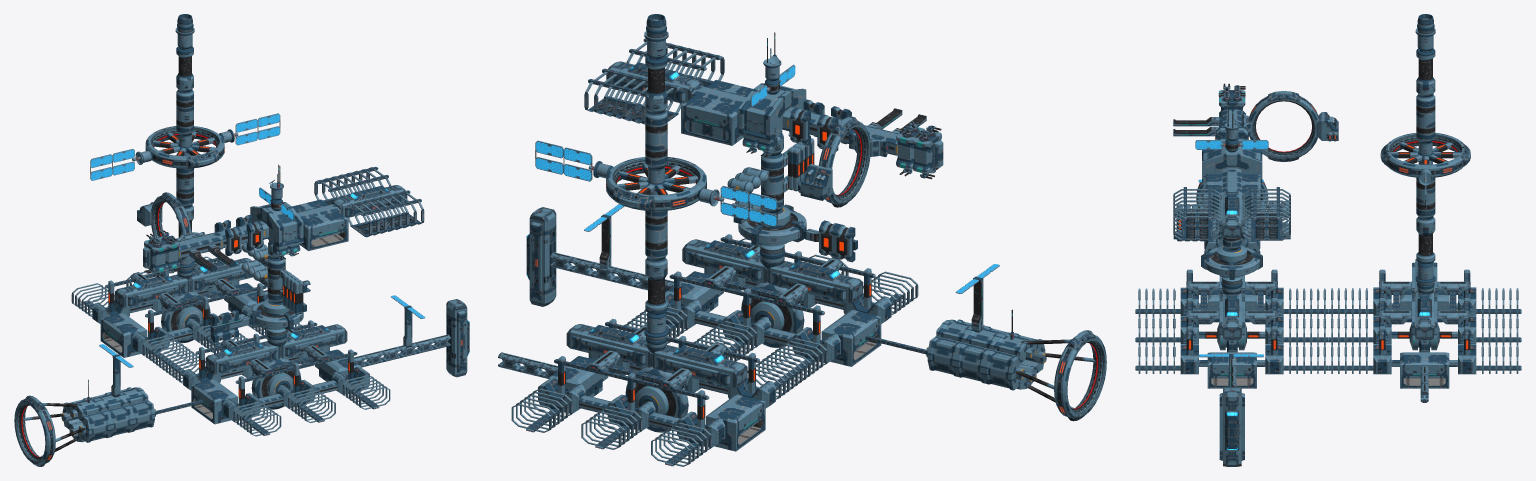
Rendered from station-a02e2a05.glb.
The picture shows the model from 3 angles, left to right: view 1: azimuth 30°, elevation 25°; view 2: azimuth 150°, elevation 25°; view 3: azimuth 270°, elevation 25°; orthographic projection. The views are drawn at different scales.
Visible parts, largest first — view 1: MilitaryFacilities2(Main) (3), WarpGate_Part01(Parts).001, SpaceShipyard_Part01(Parts), WarpGate_Part01(Parts), MilitaryFacilities1(Main), SpaceShipyard_Part01(Parts).002, SpaceShipyard_Part01(Parts) (1), SpaceShipsHangar(Main).004, SpaceShipyard_Part01(Parts).001, SpaceShipsHangar(Main) (1), SpaceShipsHangar(Main).002, SpaceShipyard_Part01(Parts).004 (+17 smaller); view 2: MilitaryFacilities2(Main) (2), WarpGate_Part01(Parts).001, SpaceShipyard_Part01(Parts), MilitaryFacilities1(Main), SpaceShipyard_Part01(Parts) (1), SpaceShipyard_Part01(Parts).002, WarpGate_Part01(Parts), SpaceShipyard_Part01(Parts).003, SpaceShipyard_Part01(Parts).001, SpaceShipsHangar(Main) (1), WarpGate_Part01(Parts).002, SpaceShipsHangar(Main).002 (+28 smaller); view 3: WarpGate_Part01(Parts).001, SpaceShipyard_Part01(Parts), WarpGate_Part01(Parts).002, SpaceShipsHangar(Main), MilitaryFacilities1(Main), SpaceShipsHangar(Main).001, CorePart1(Main).002, SpaceShipyard_Part01(Parts).003, SpaceShipyard_Part01(Parts).001, SpaceShipyard_Part01(Parts).004, CorePart3(Main) (1), CorePart2(Main) (1) (+20 smaller).
Part boxes in pixels (box(x1,y1,x2,y2)): MilitaryFacilities2(Main) (3): box(79, 400, 155, 442); WarpGate_Part01(Parts).001: box(145, 126, 224, 168); SpaceShipyard_Part01(Parts): box(446, 299, 469, 377); WarpGate_Part01(Parts): box(14, 395, 55, 466); MilitaryFacilities1(Main): box(250, 202, 303, 248); SpaceShipyard_Part01(Parts).002: box(205, 341, 280, 374); SpaceShipyard_Part01(Parts) (1): box(115, 274, 189, 308); SpaceShipsHangar(Main).004: box(299, 211, 348, 250); SpaceShipyard_Part01(Parts).001: box(281, 324, 347, 358); SpaceShipsHangar(Main) (1): box(100, 313, 147, 357); SpaceShipsHangar(Main).002: box(191, 379, 237, 424); SpaceShipyard_Part01(Parts).004: box(331, 185, 407, 217); MilitaryFacilities2(Main) (2): box(926, 336, 1024, 390); WarpGate_Part01(Parts).001: box(606, 157, 706, 211); SpaceShipyard_Part01(Parts): box(526, 207, 556, 306); MilitaryFacilities1(Main): box(738, 83, 806, 142); SpaceShipyard_Part01(Parts) (1): box(651, 344, 747, 387); SpaceShipyard_Part01(Parts).002: box(767, 260, 863, 303); WarpGate_Part01(Parts): box(1054, 330, 1106, 421); SpaceShipyard_Part01(Parts).003: box(566, 324, 651, 367); SpaceShipyard_Part01(Parts).001: box(682, 239, 767, 282); SpaceShipsHangar(Main) (1): box(706, 394, 765, 451); WarpGate_Part01(Parts).002: box(818, 116, 870, 207); SpaceShipsHangar(Main).002: box(821, 310, 881, 366); WarpGate_Part01(Parts).001: box(1380, 133, 1470, 177); SpaceShipyard_Part01(Parts): box(1219, 387, 1244, 466); WarpGate_Part01(Parts).002: box(1248, 91, 1318, 161); SpaceShipsHangar(Main): box(1400, 352, 1449, 388); MilitaryFacilities1(Main): box(1202, 142, 1262, 184); SpaceShipsHangar(Main).001: box(1207, 352, 1256, 388); CorePart1(Main).002: box(1204, 245, 1260, 278); SpaceShipyard_Part01(Parts).003: box(1412, 292, 1437, 340); SpaceShipyard_Part01(Parts).001: box(1219, 293, 1244, 340); SpaceShipyard_Part01(Parts).004: box(1219, 190, 1244, 238); CorePart3(Main) (1): box(1416, 94, 1435, 143); CorePart2(Main) (1): box(1416, 48, 1435, 96).
Size of the model in its own units: 3312 by 2414 by 2389.
2 materials, 2 textured.
